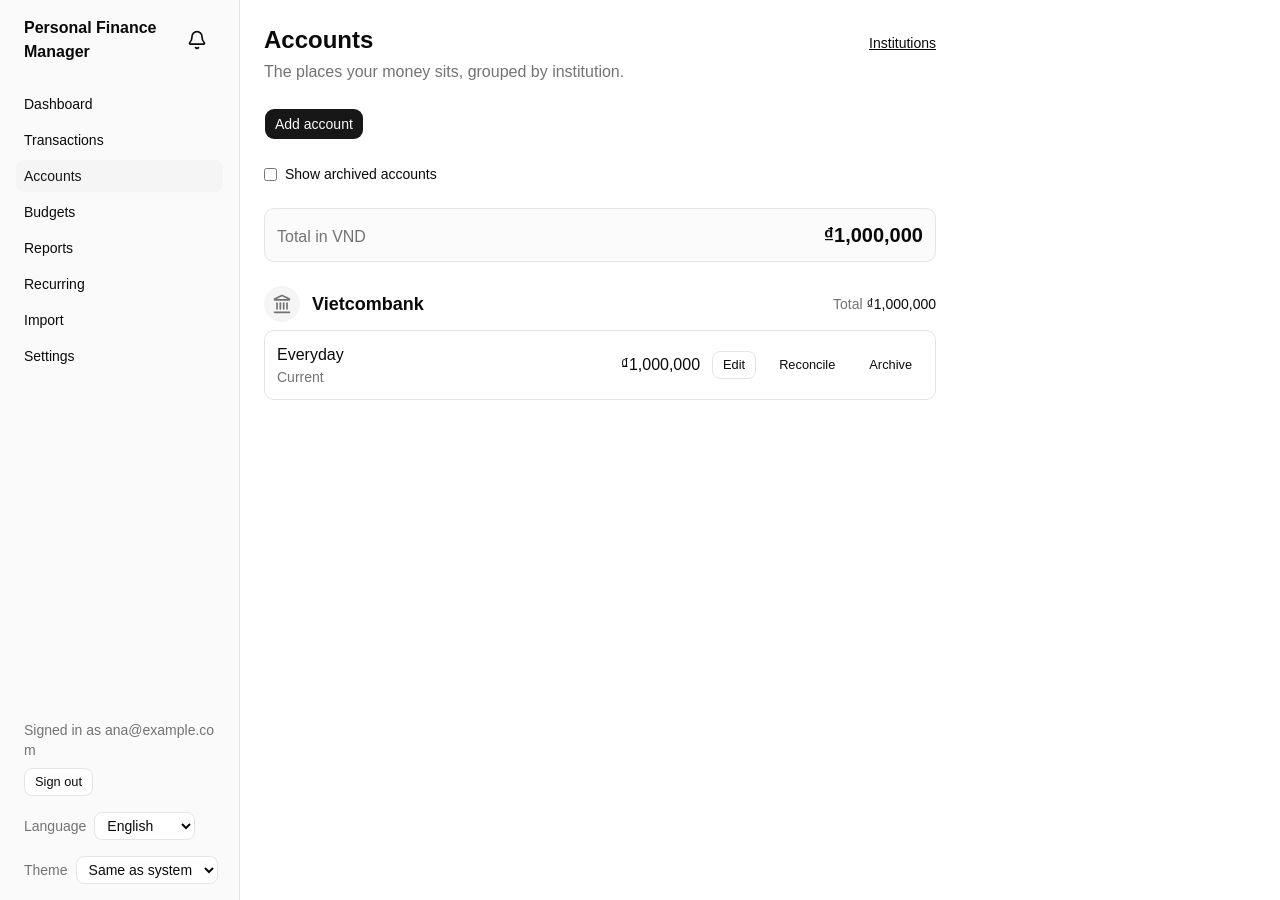
accounts › show the new balance as soon as the opening balance is changed, naming the row version the edit was made from
Click the button with aria-label "Edit Everyday" at (734,365), box x1=712 y1=351 x2=756 y2=379
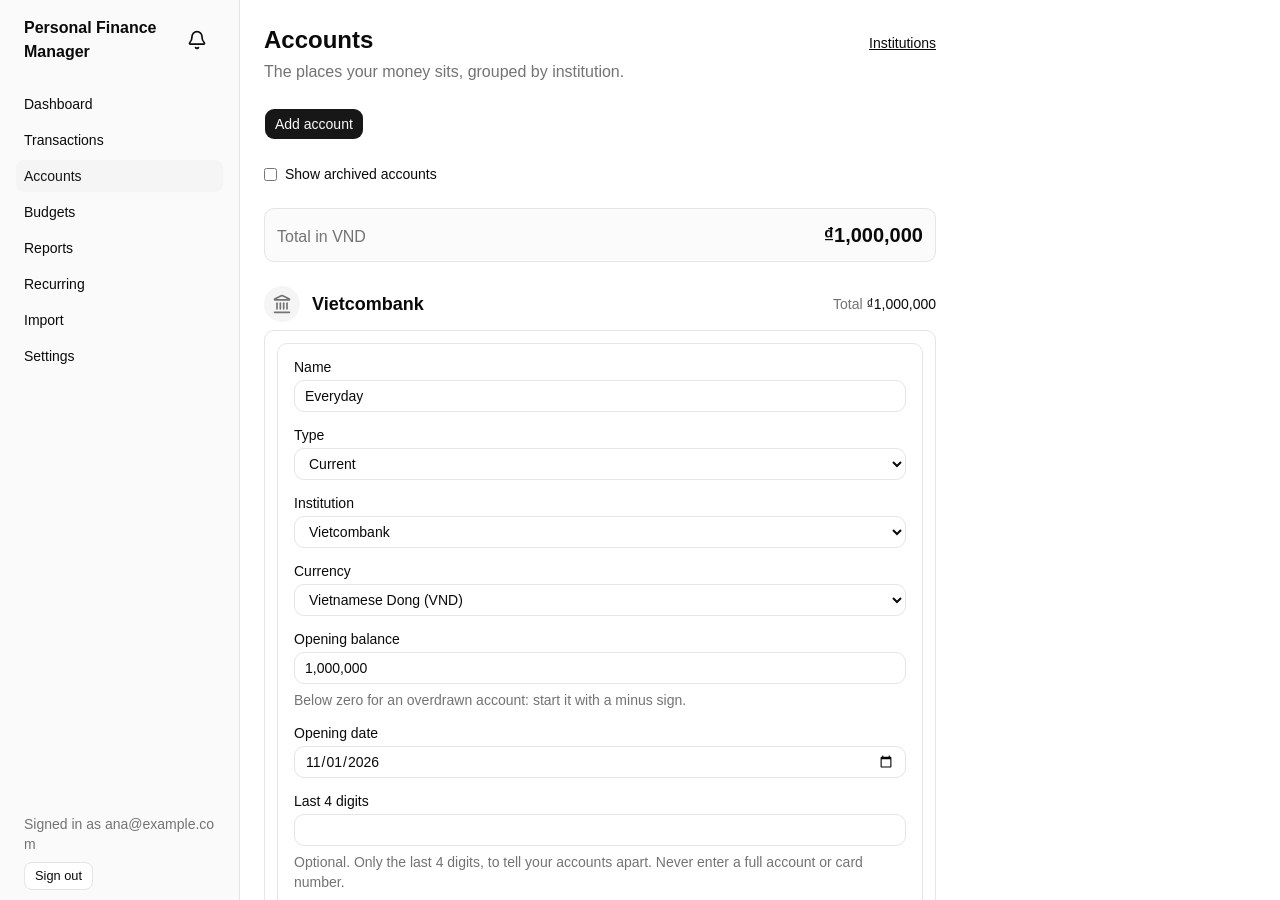
Result: the field labelled "Name" holds "Everyday" at x1=294 y1=380 x2=906 y2=412
Result: the dropdown labelled "Institution" shows "Vietcombank" at x1=294 y1=516 x2=906 y2=548
Result: the field labelled "Opening balance" holds "1,000,000"
Replace the text in the field labelled "Opening balance" with "2,500,000" at (600,668), box x1=294 y1=652 x2=906 y2=684
(page scrolled)
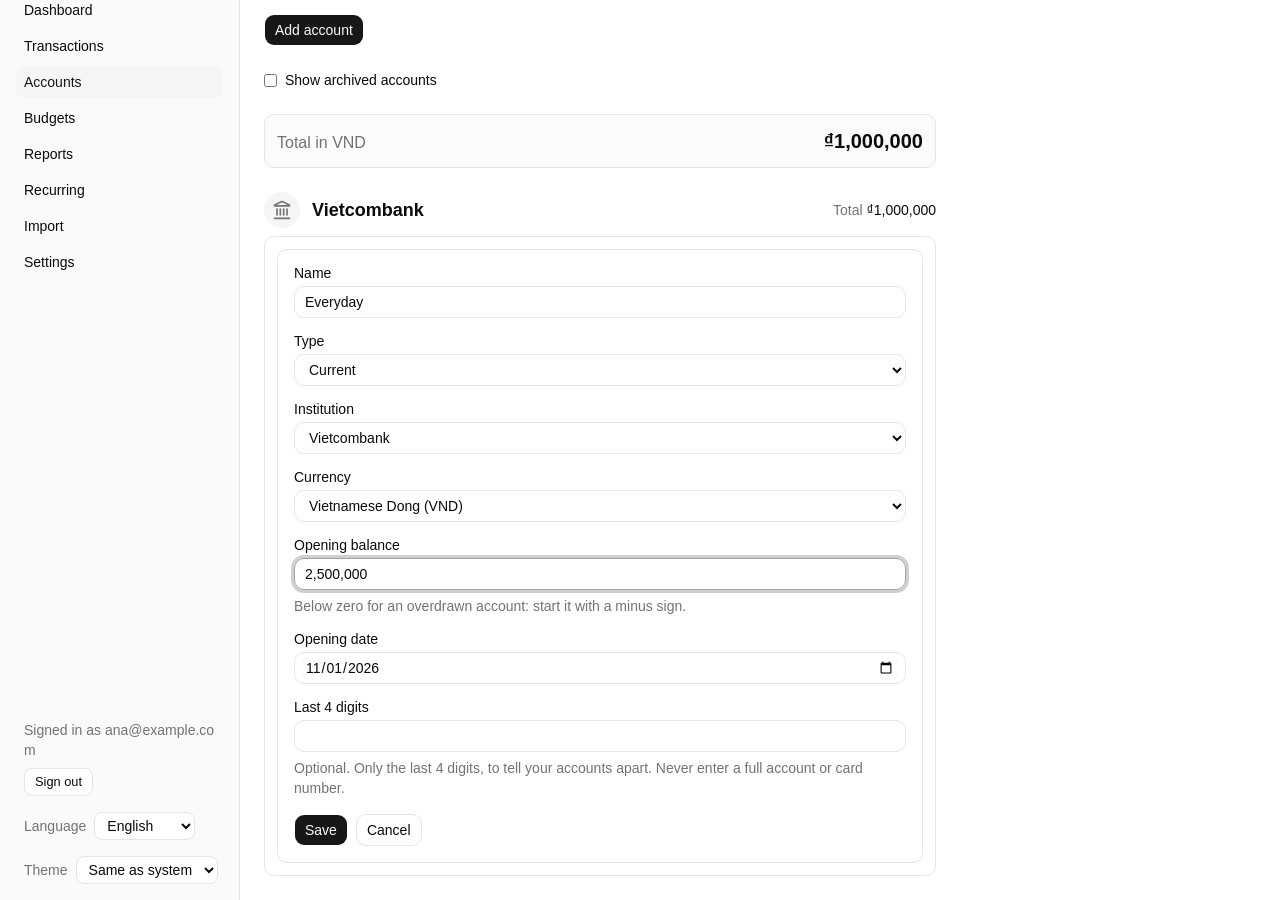
Click the button "Save" at (321,830), box x1=294 y1=814 x2=348 y2=846
(page scrolled)
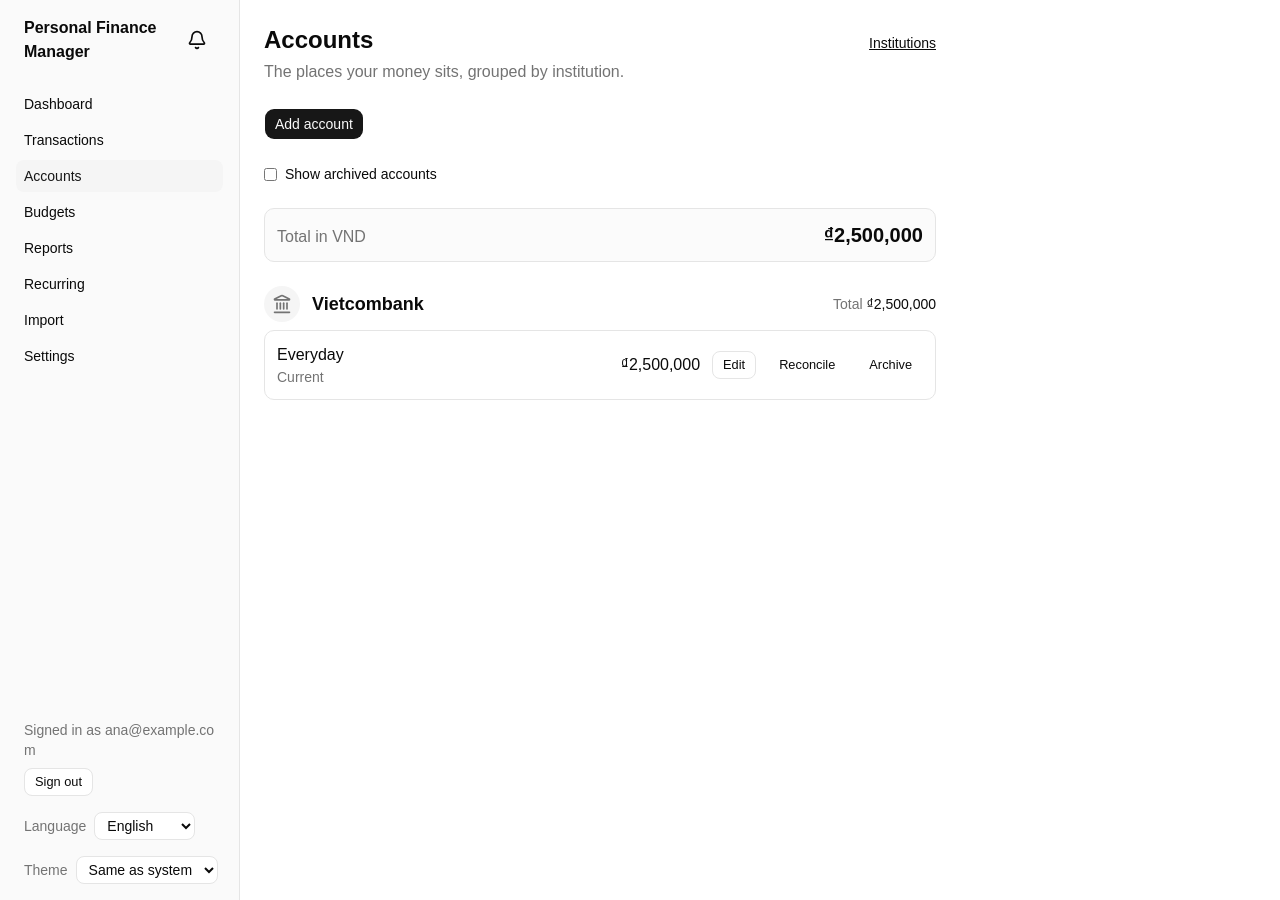
Result: the label labelled "Name" is gone
